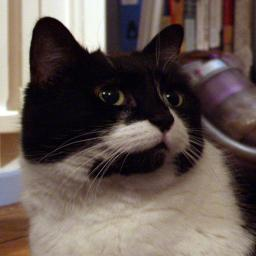catnose: (146, 112, 176, 134)
